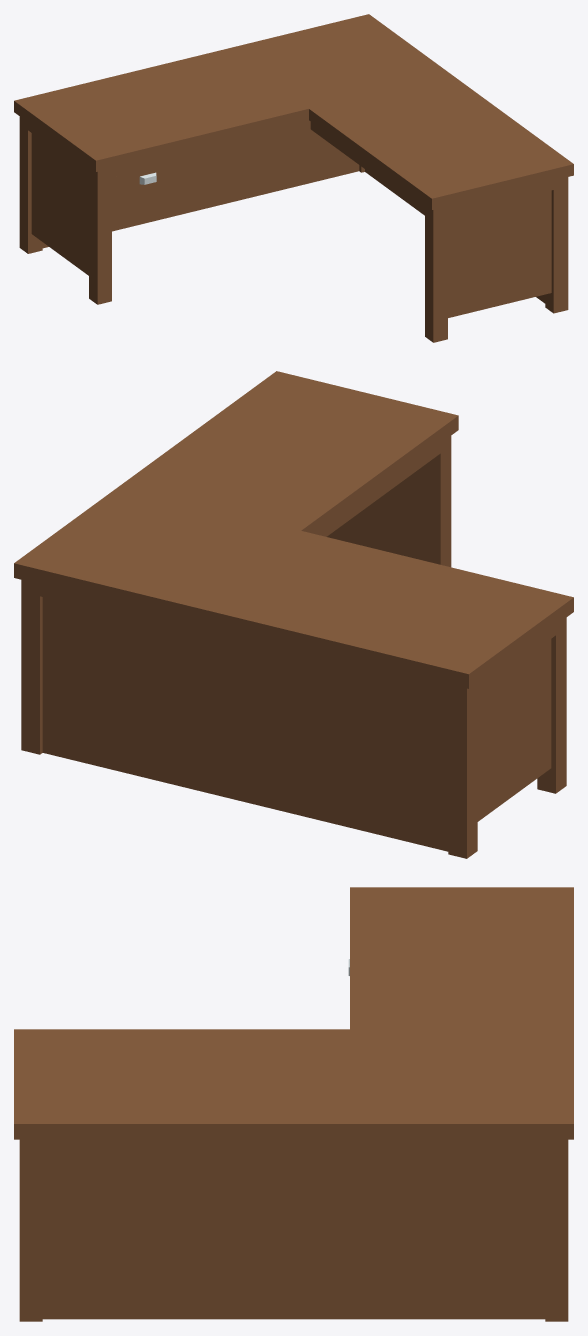
File: m_desk_corner.glb
The picture shows the model from 3 angles, top to bottom: view 1: azimuth 30°, elevation 25°; view 2: azimuth 150°, elevation 25°; view 3: azimuth 270°, elevation 25°; orthographic projection. The views are drawn at different scales.
Parts seen in each view (by area): view 1: Mesh deskCorner, drawer; view 2: Mesh deskCorner; view 3: Mesh deskCorner.
Boxes of the visible parts, x1,y1,x2,y2 form: Mesh deskCorner: [14, 14, 573, 342]; drawer: [112, 160, 183, 196]; Mesh deskCorner: [14, 371, 573, 858]; Mesh deskCorner: [14, 887, 573, 1321].
Bounding box in the file's own units: 1.93 × 0.76 × 1.93.
